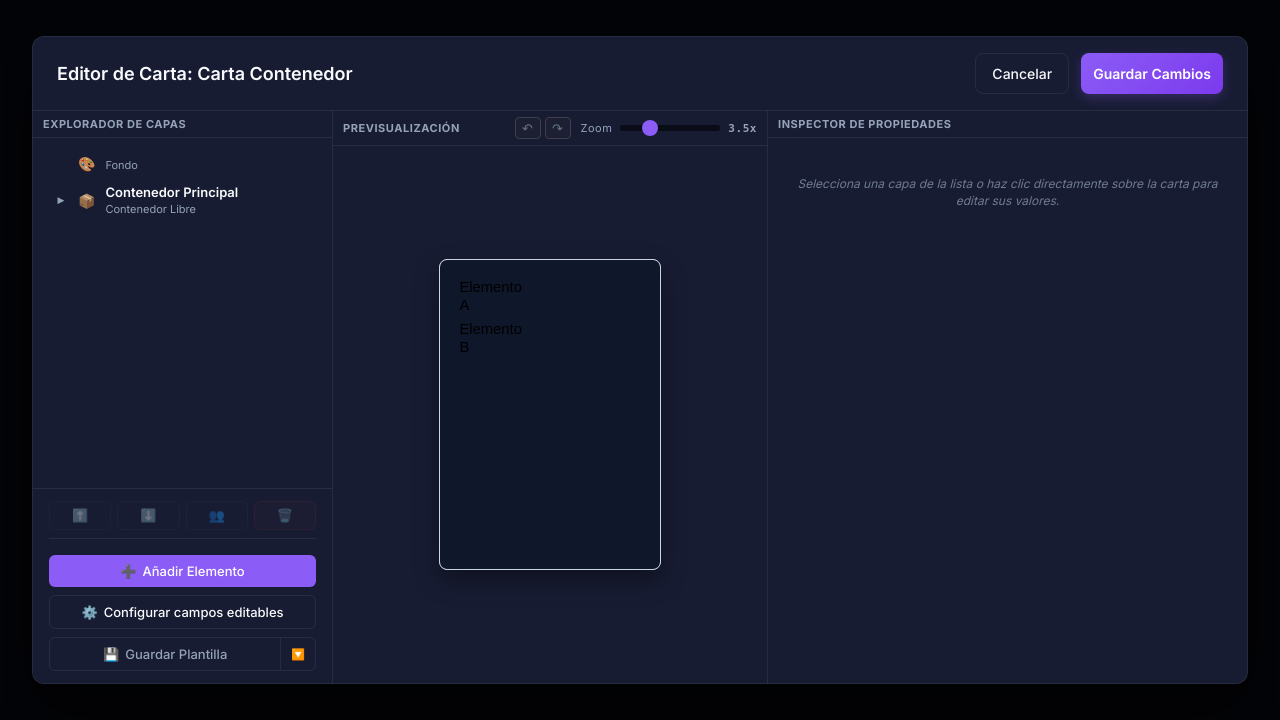
Test: SRS-071: Nuevos Tipos de Layout para Contenedores › RF-2 & RF-3: Inspector y Renderizado en EditCardModal › ofrece las 7 opciones de layout en el selector del inspector
Seleccionar el contenedor en el árbol de capas
Click the text "Contenedor Principal" at (172, 192), box [106, 184, 238, 200]
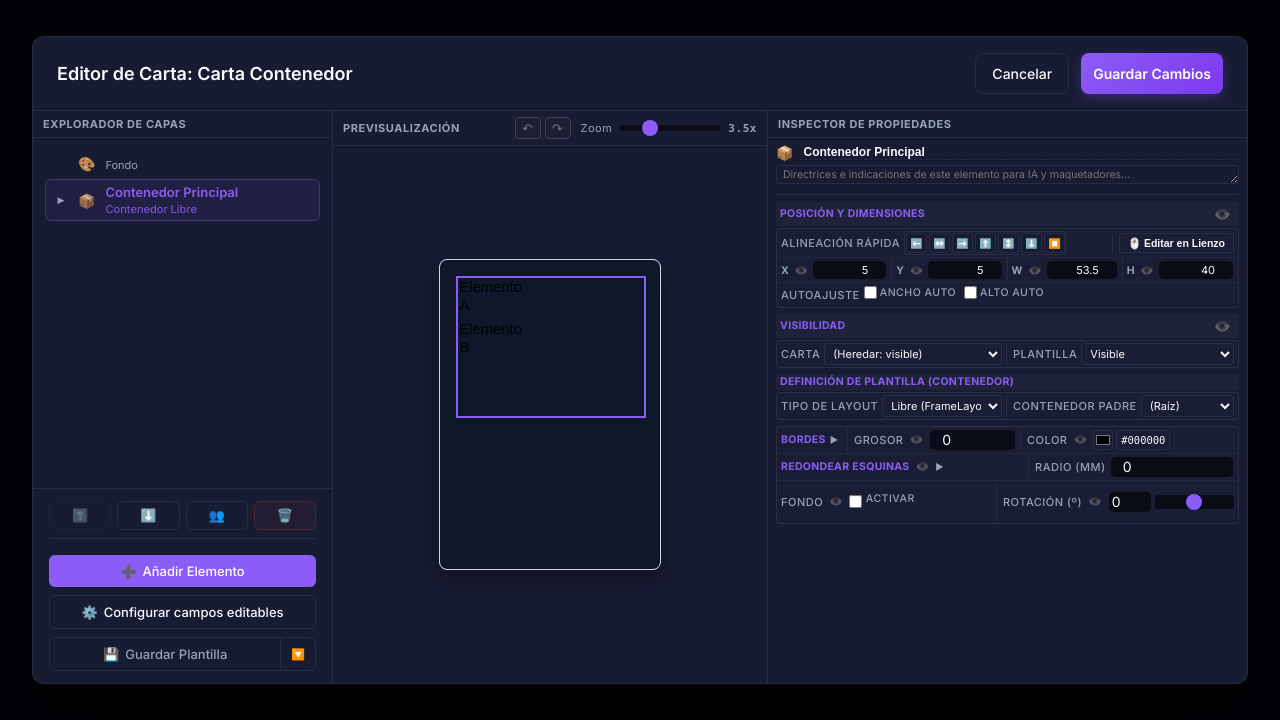
Now the dropdown showing "Libre (FrameLayout)" next to "Tipo de Layout" is shown, box [882, 395, 1002, 417]
